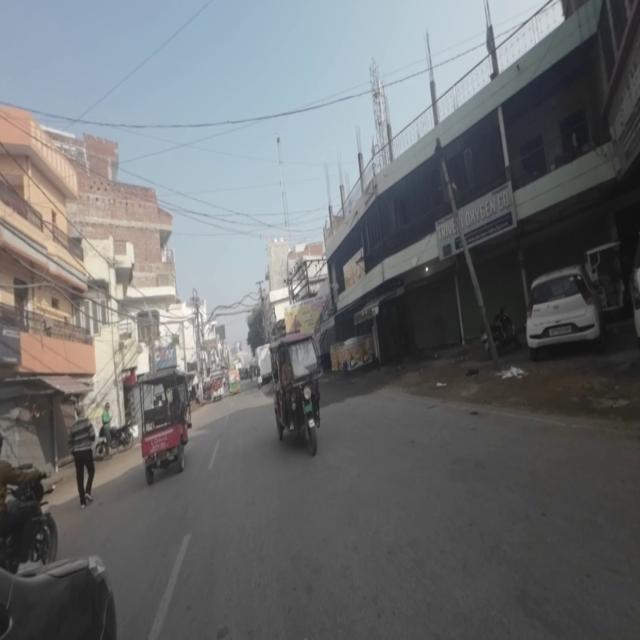Garbage: (498, 362, 529, 387)
